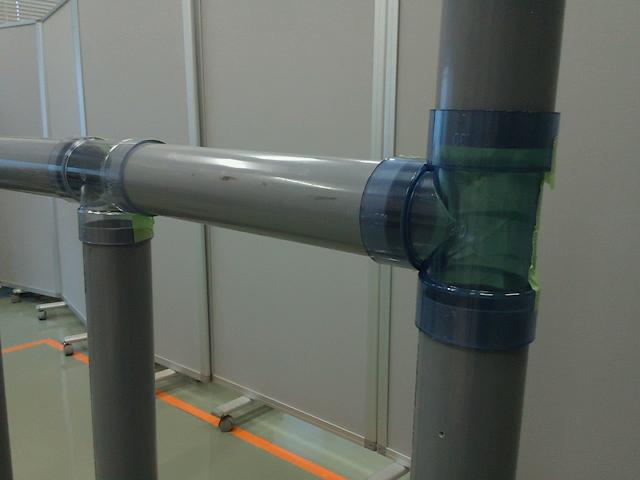junction: (358, 114, 556, 343), (56, 136, 180, 243)
